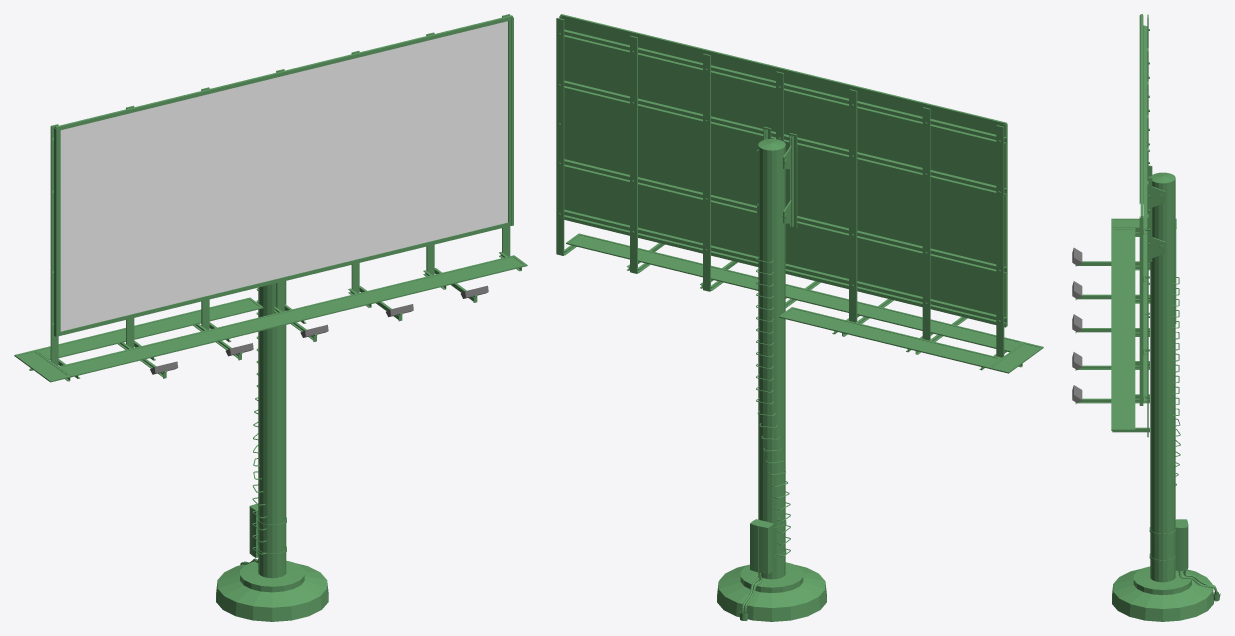
The model's file is billboard.gltf.
The picture shows the model from 3 angles, left to right: view 1: azimuth 30°, elevation 25°; view 2: azimuth 150°, elevation 25°; view 3: azimuth 270°, elevation 25°; orthographic projection. The views are drawn at different scales.
Size of the model in its own units: 218 by 232 by 64.25.
